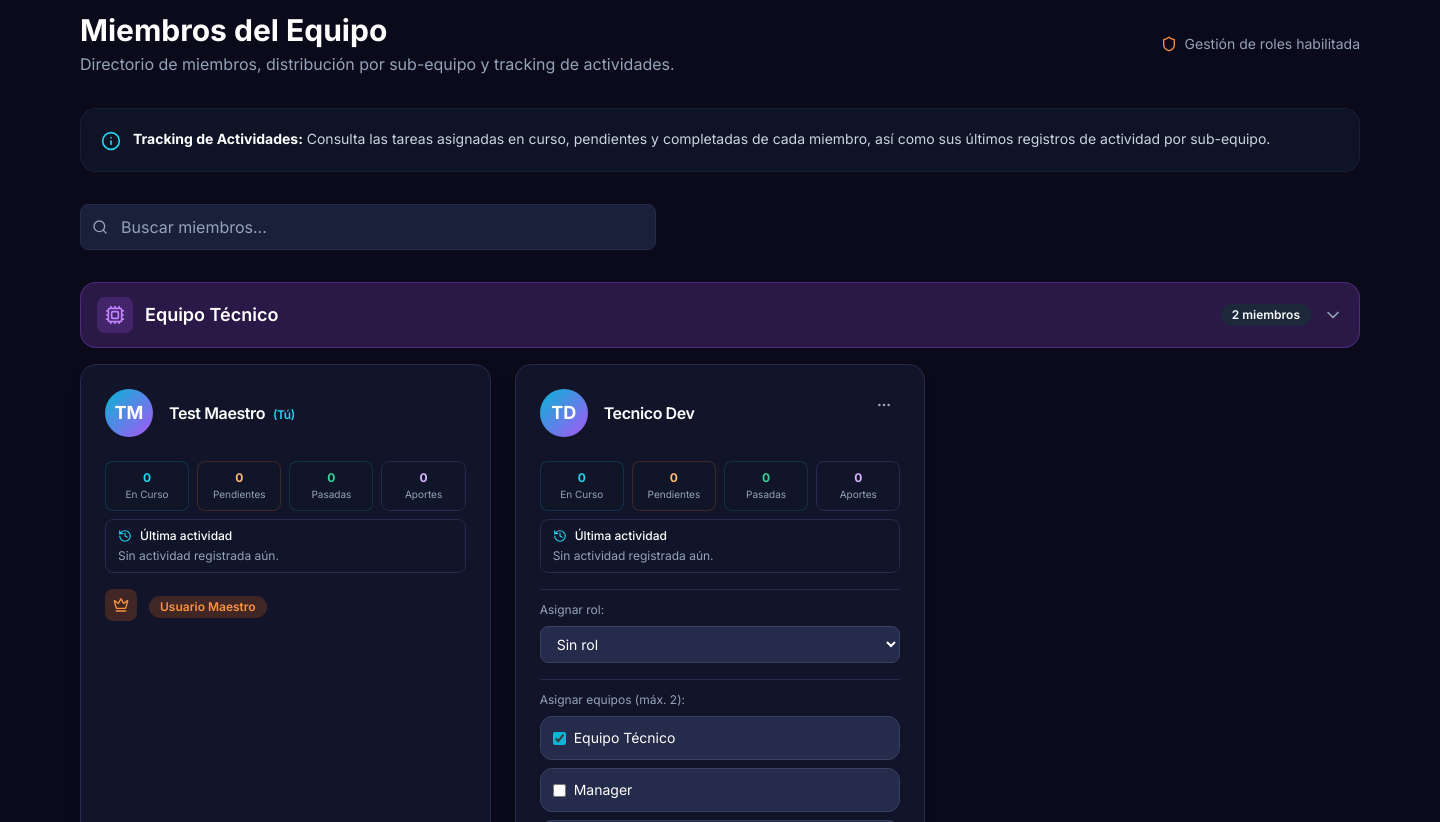
Scenario: Members › filters members by email
The image size is (1440, 822).
Expected: the link "Test Maestro" is shown, [169,403,265,423]
In the search field with placeholder "Buscar miembros...": (368, 227) [80,204,656,250], type "tecnico@usm"
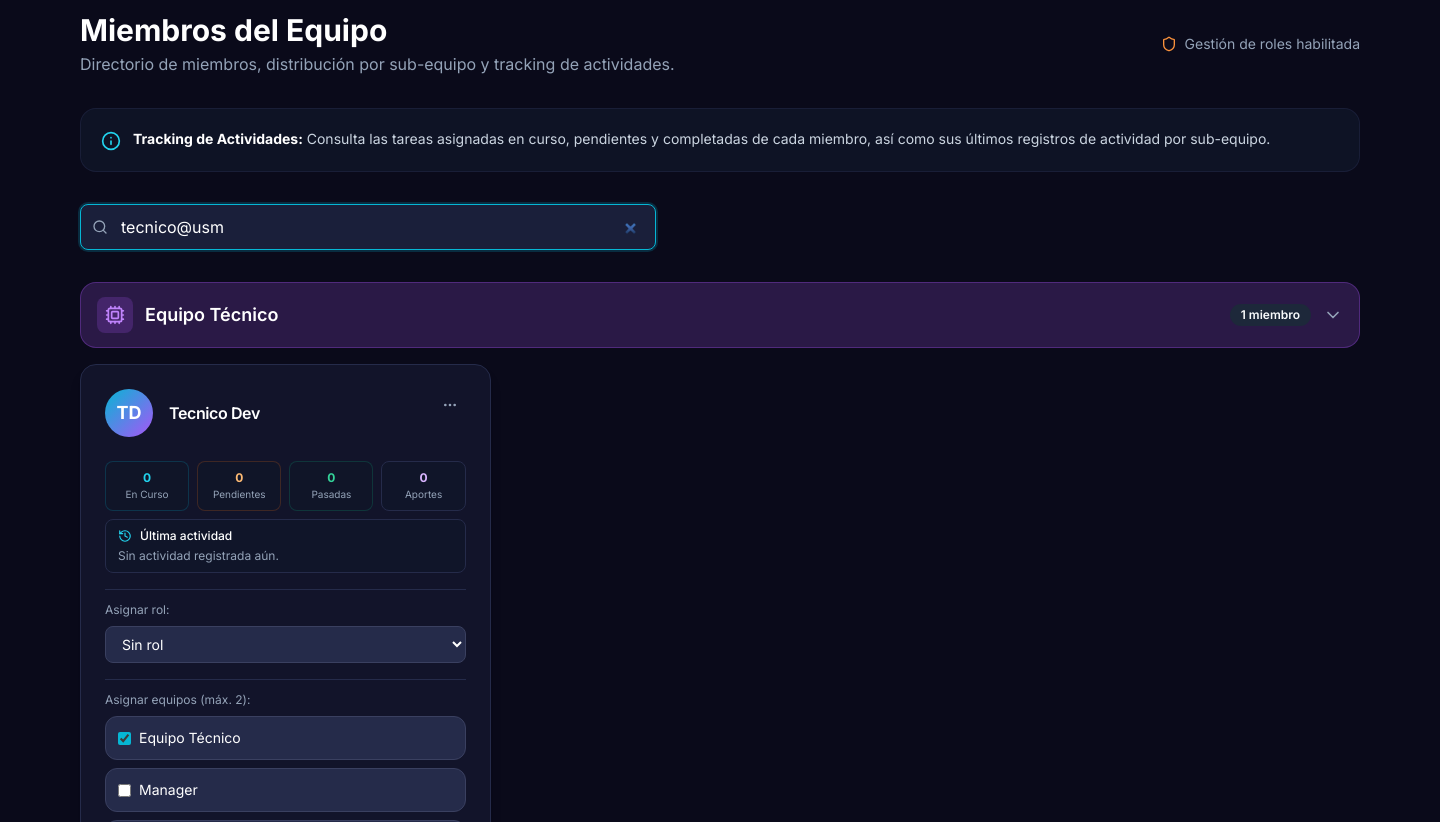
Expected: the link "Tecnico Dev" is shown, [169,403,260,423]
Expected: the link "Test Maestro" is gone
